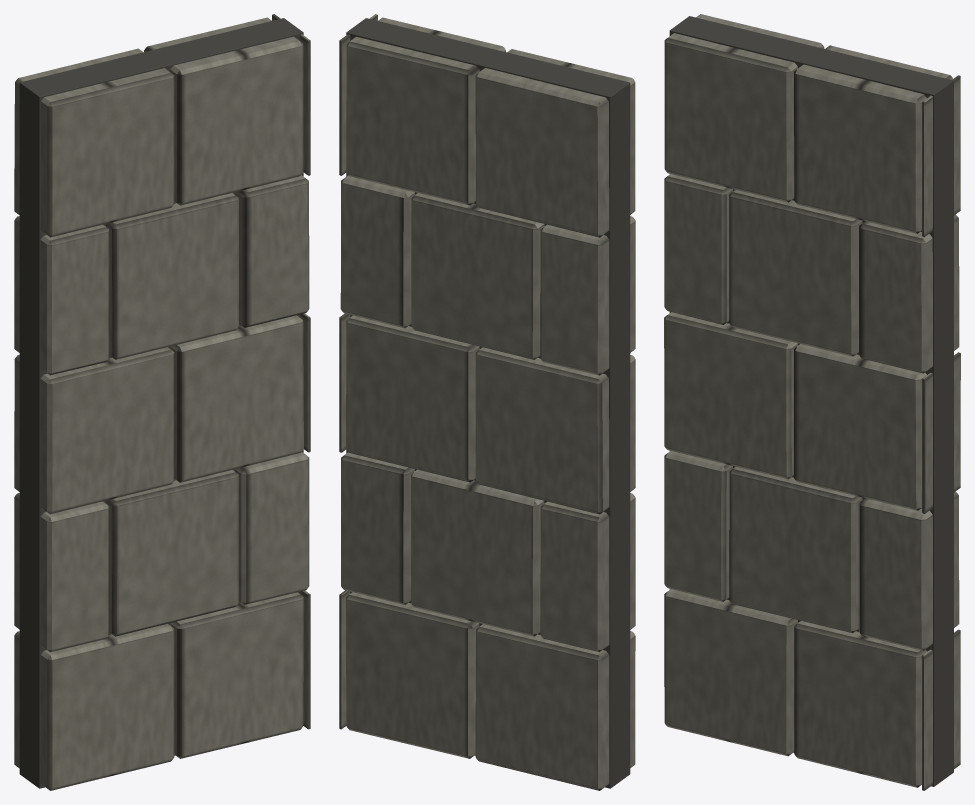
Rendered from wall_ashlar_a.glb.
3 renders of one model, left to right at view 1: azimuth 30°, elevation 25°; view 2: azimuth 150°, elevation 25°; view 3: azimuth 330°, elevation 25°, orthographic.
Visible parts, largest first — view 1: wall_ashlar_a; view 2: wall_ashlar_a; view 3: wall_ashlar_a.
Boxes of the visible parts, left/top/right/bottom form: wall_ashlar_a: left=14, top=14, right=310, bottom=790; wall_ashlar_a: left=339, top=14, right=635, bottom=790; wall_ashlar_a: left=664, top=14, right=960, bottom=790.
Bounding box in the file's own units: 1 × 2.5 × 0.2399.
Materials: 2 (1 with a texture image).
